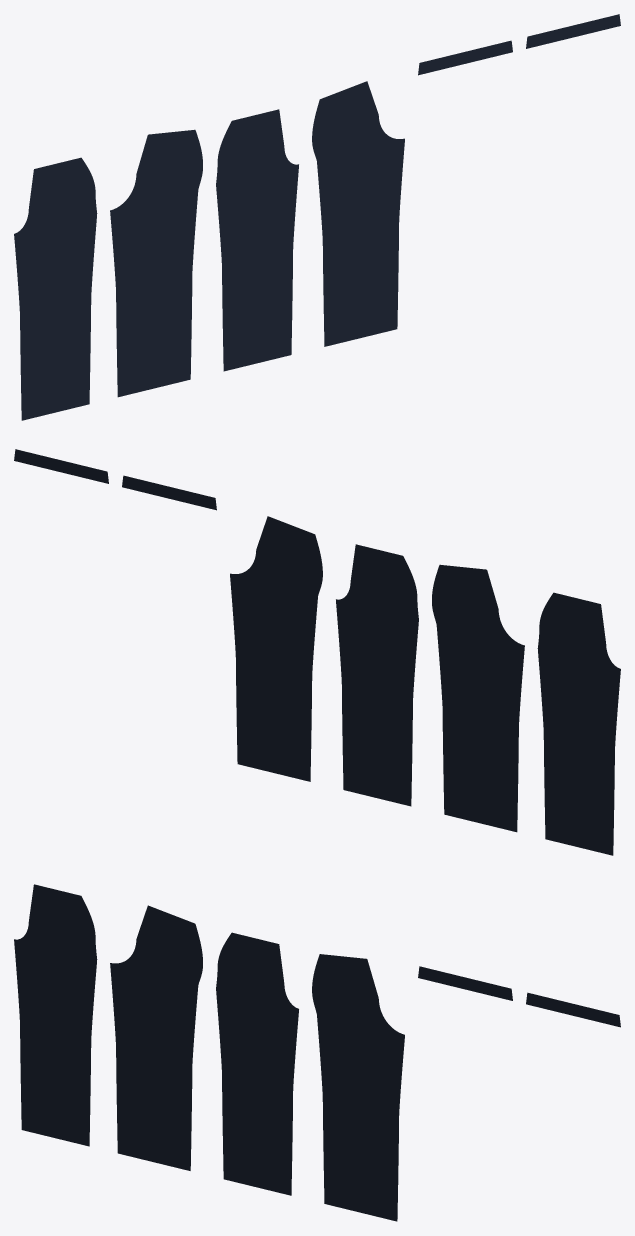
File: jean-pierna-ancha-parche-talla-XS.glb
3 views of the same model, one above another, from view 1: azimuth 30°, elevation 25°; view 2: azimuth 150°, elevation 25°; view 3: azimuth 330°, elevation 25° (orthographic).
Visible parts, largest first — view 1: patron-espalda-izq, patron-espalda-der, patron-delantero-izq, patron-delantero-der, patron-pretina-delantera, patron-pretina-trasera; view 2: patron-espalda-izq, patron-espalda-der, patron-delantero-izq, patron-delantero-der, patron-pretina-delantera, patron-pretina-trasera; view 3: patron-espalda-izq, patron-espalda-der, patron-delantero-izq, patron-delantero-der, patron-pretina-delantera, patron-pretina-trasera.
Part boxes in pixels (x1,y1,x2,y2): patron-espalda-izq: [110, 129, 202, 397]; patron-espalda-der: [312, 81, 404, 346]; patron-delantero-izq: [14, 157, 97, 420]; patron-delantero-der: [216, 109, 298, 371]; patron-pretina-delantera: [418, 40, 512, 75]; patron-pretina-trasera: [526, 14, 620, 48]; patron-espalda-izq: [432, 564, 524, 832]; patron-espalda-der: [230, 516, 322, 781]; patron-delantero-izq: [537, 592, 620, 855]; patron-delantero-der: [336, 544, 418, 806]; patron-pretina-delantera: [122, 475, 216, 510]; patron-pretina-trasera: [14, 449, 108, 483]; patron-espalda-izq: [110, 905, 202, 1170]; patron-espalda-der: [312, 954, 404, 1221]; patron-delantero-izq: [14, 884, 97, 1146]; patron-delantero-der: [216, 932, 298, 1195]; patron-pretina-delantera: [418, 966, 512, 1000]; patron-pretina-trasera: [526, 992, 620, 1027].
Size of the model in its own units: 2.36 by 0.97 by 0.
